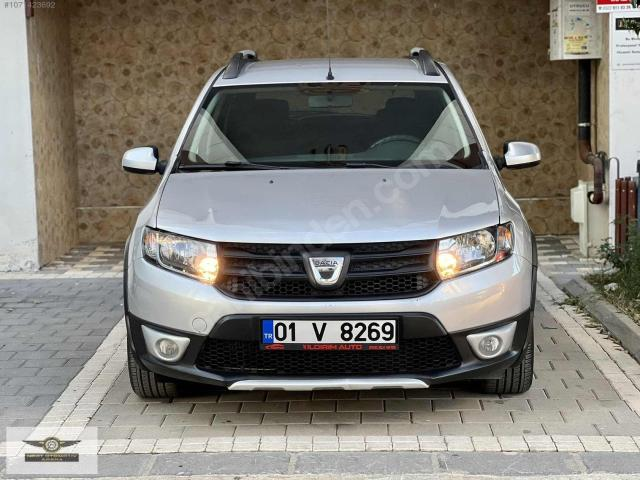plaka: (260, 320, 397, 350)
